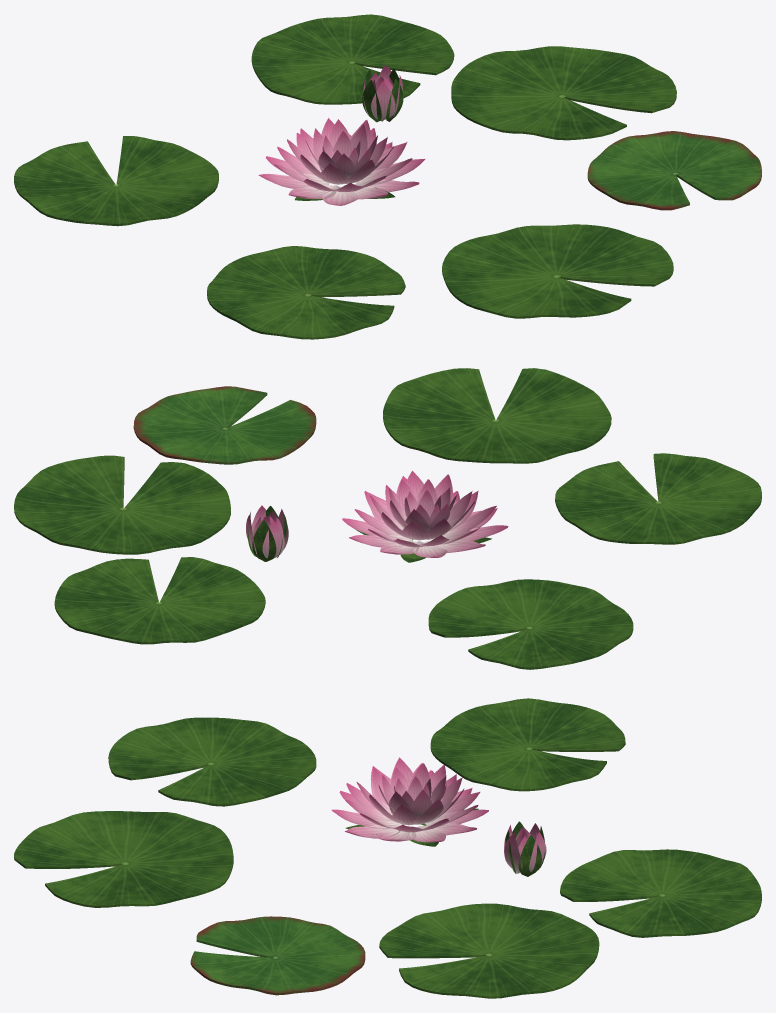
File: lily_flowers_a.gltf
3 views of the same model, one above another, from view 1: azimuth 30°, elevation 25°; view 2: azimuth 150°, elevation 25°; view 3: azimuth 270°, elevation 25° (orthographic).
Visible parts, largest first — view 1: lily_flowers_a; view 2: lily_flowers_a; view 3: lily_flowers_a.
Boxes of the visible parts, left/top/right/bottom form: lily_flowers_a: left=14, top=14, right=761, bottom=339; lily_flowers_a: left=14, top=368, right=761, bottom=669; lily_flowers_a: left=14, top=698, right=761, bottom=998.
Bounding box in the file's own units: 0.9042 × 0.0793 × 0.9685.
Materials: 1 (1 with a texture image).
